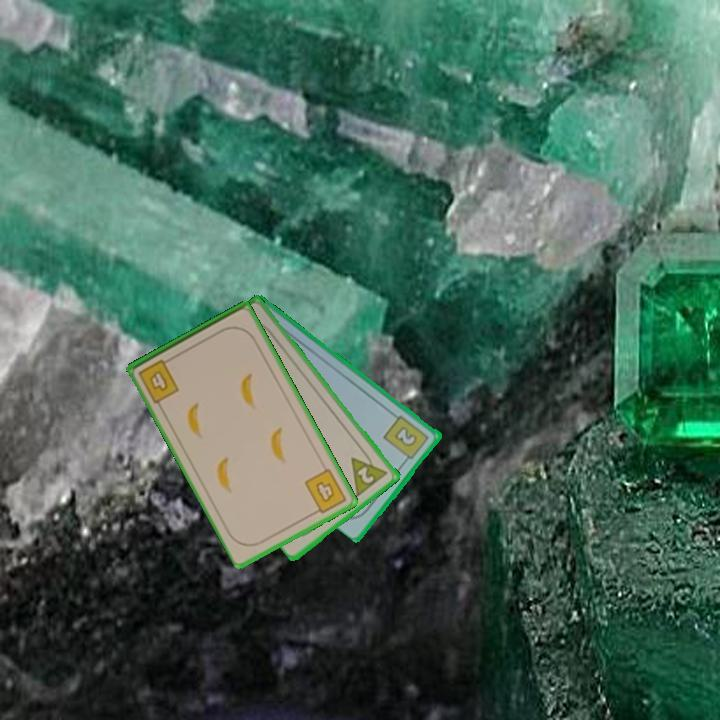2b: (380, 412, 432, 466)
2p: (347, 446, 392, 499)
4b: (301, 465, 350, 518), (135, 354, 182, 406)
